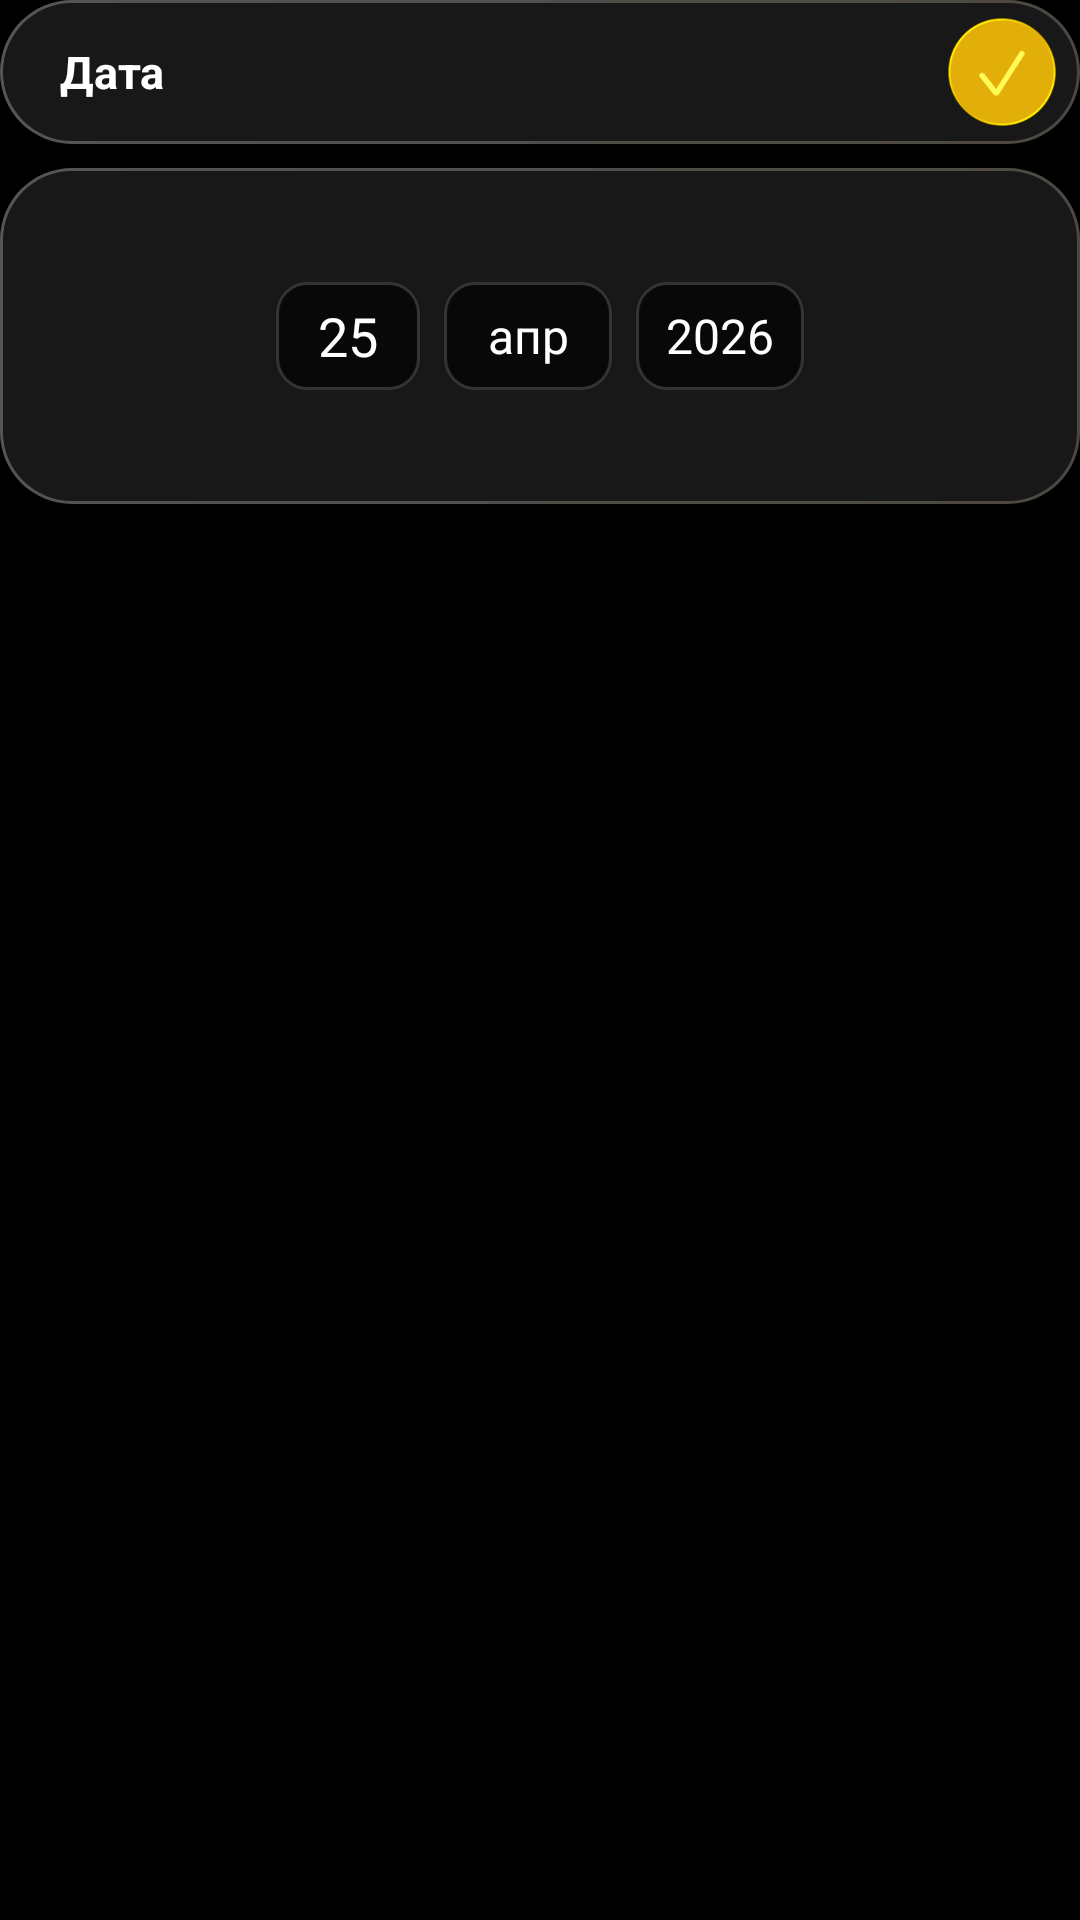

Where icons sit on this 1080w x 1920h app screen, as (x1, y1, x2, y2):
Готово: (948, 18, 1056, 126)
